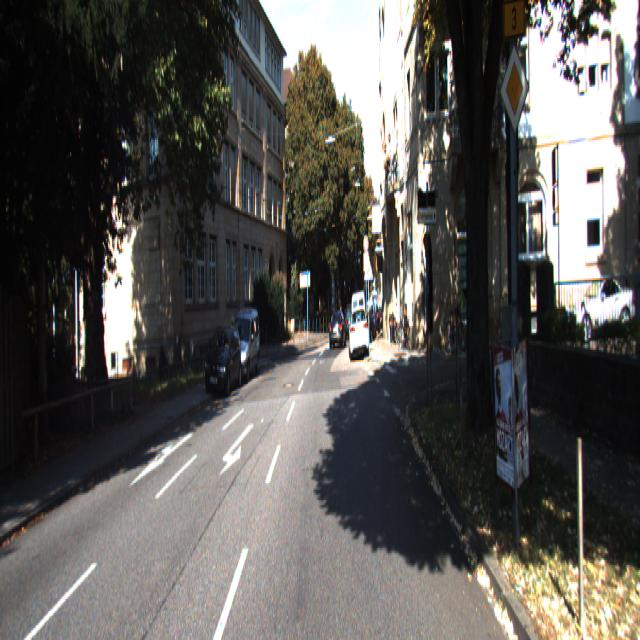Car: (564, 269, 634, 339), (202, 323, 243, 401), (227, 306, 260, 386), (348, 305, 369, 363), (350, 287, 368, 353), (328, 308, 348, 351)
DontCare: (369, 304, 382, 331)
